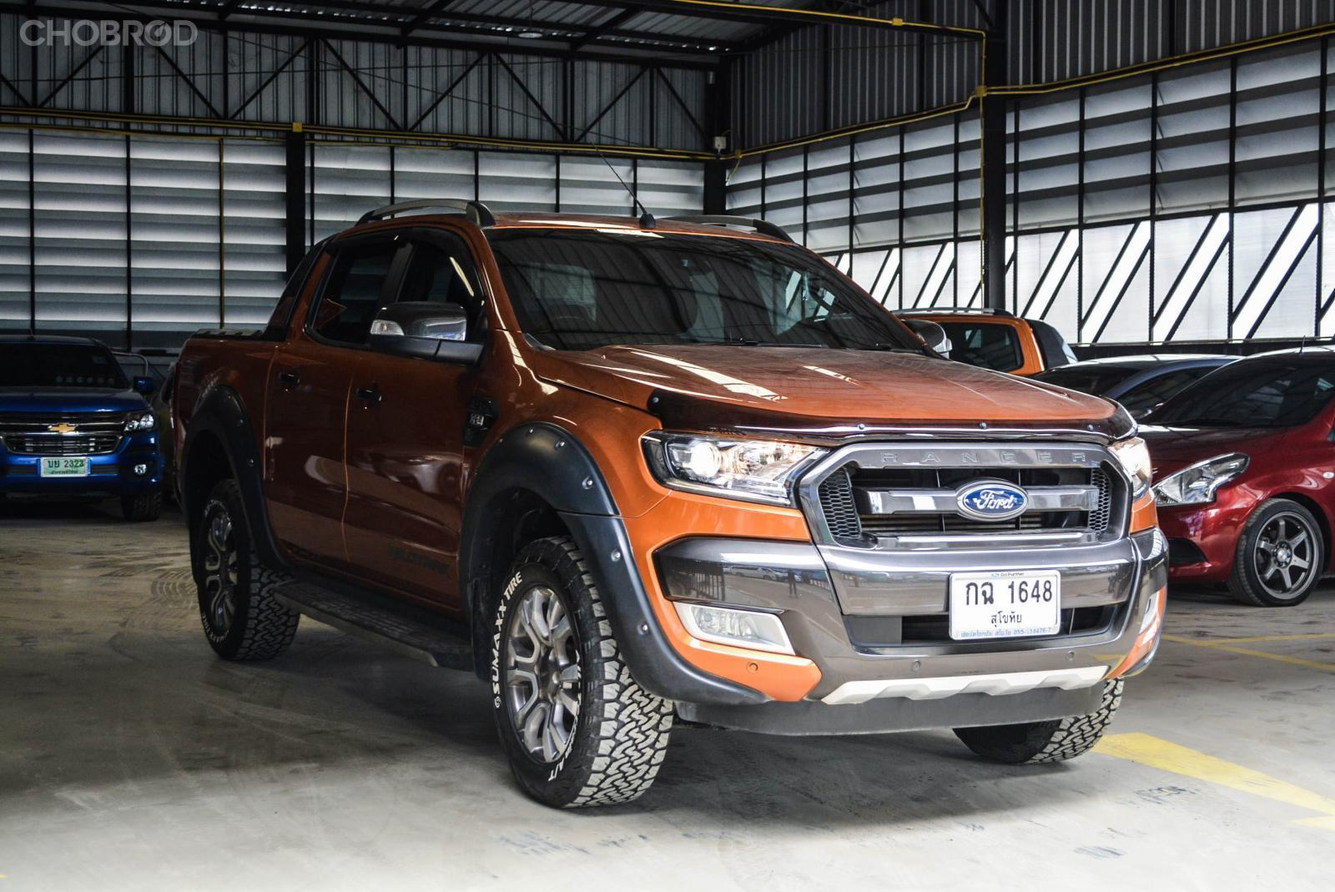license-plate: (949, 566, 1061, 638)
